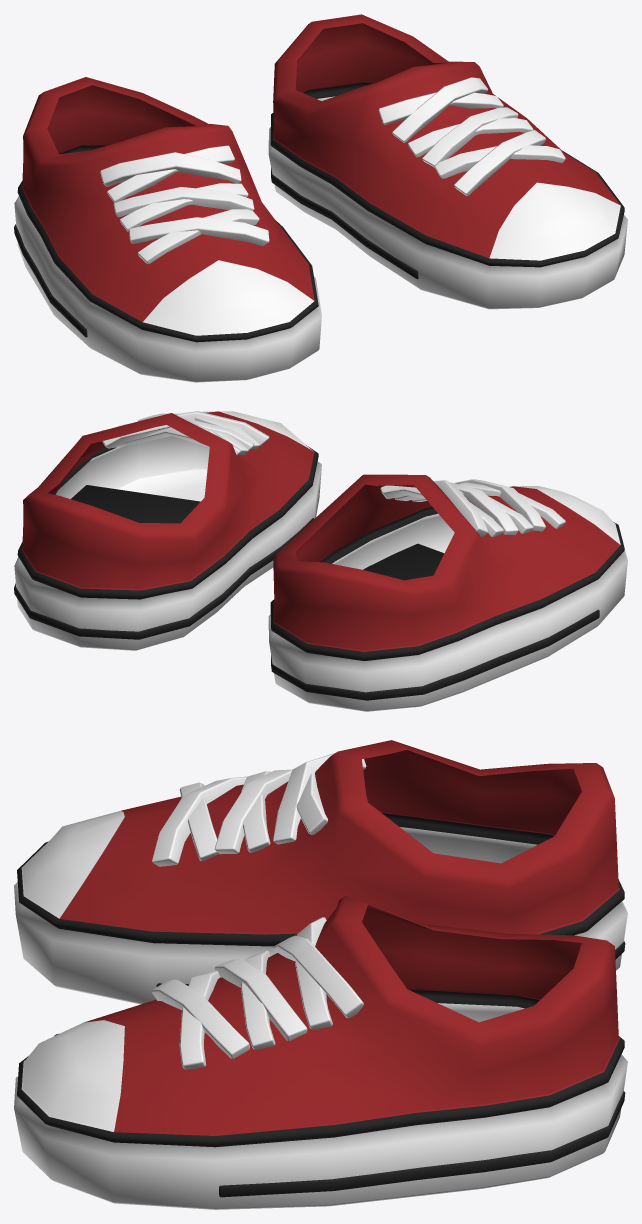
The model's file is Shoe_Sneaker_002.glb.
3 renders of one model, top to bottom at view 1: azimuth 30°, elevation 25°; view 2: azimuth 150°, elevation 25°; view 3: azimuth 270°, elevation 25°, orthographic. The views are drawn at different scales.
Visible parts, largest first — view 1: Shoe_Sneaker_002; view 2: Shoe_Sneaker_002; view 3: Shoe_Sneaker_002.
Boxes of the visible parts, left/top/right/bottom form: Shoe_Sneaker_002: left=14, top=14, right=627, bottom=382; Shoe_Sneaker_002: left=14, top=411, right=627, bottom=711; Shoe_Sneaker_002: left=14, top=740, right=627, bottom=1209.
Size of the model in its own units: 0.4372 by 0.1301 by 0.3347.
Materials: 1 (1 with a texture image).
